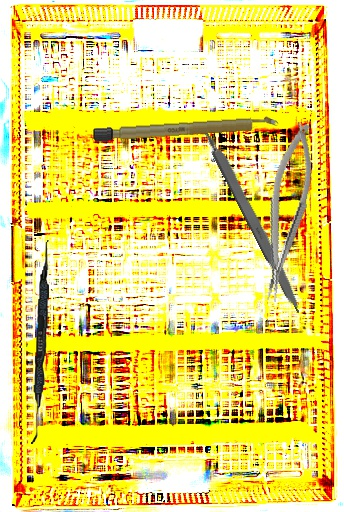Needle Holder: (247, 120, 325, 304)
Scalpel Handle: (198, 120, 307, 316), (92, 115, 280, 143)
Spatula Surgical: (31, 239, 51, 445)
